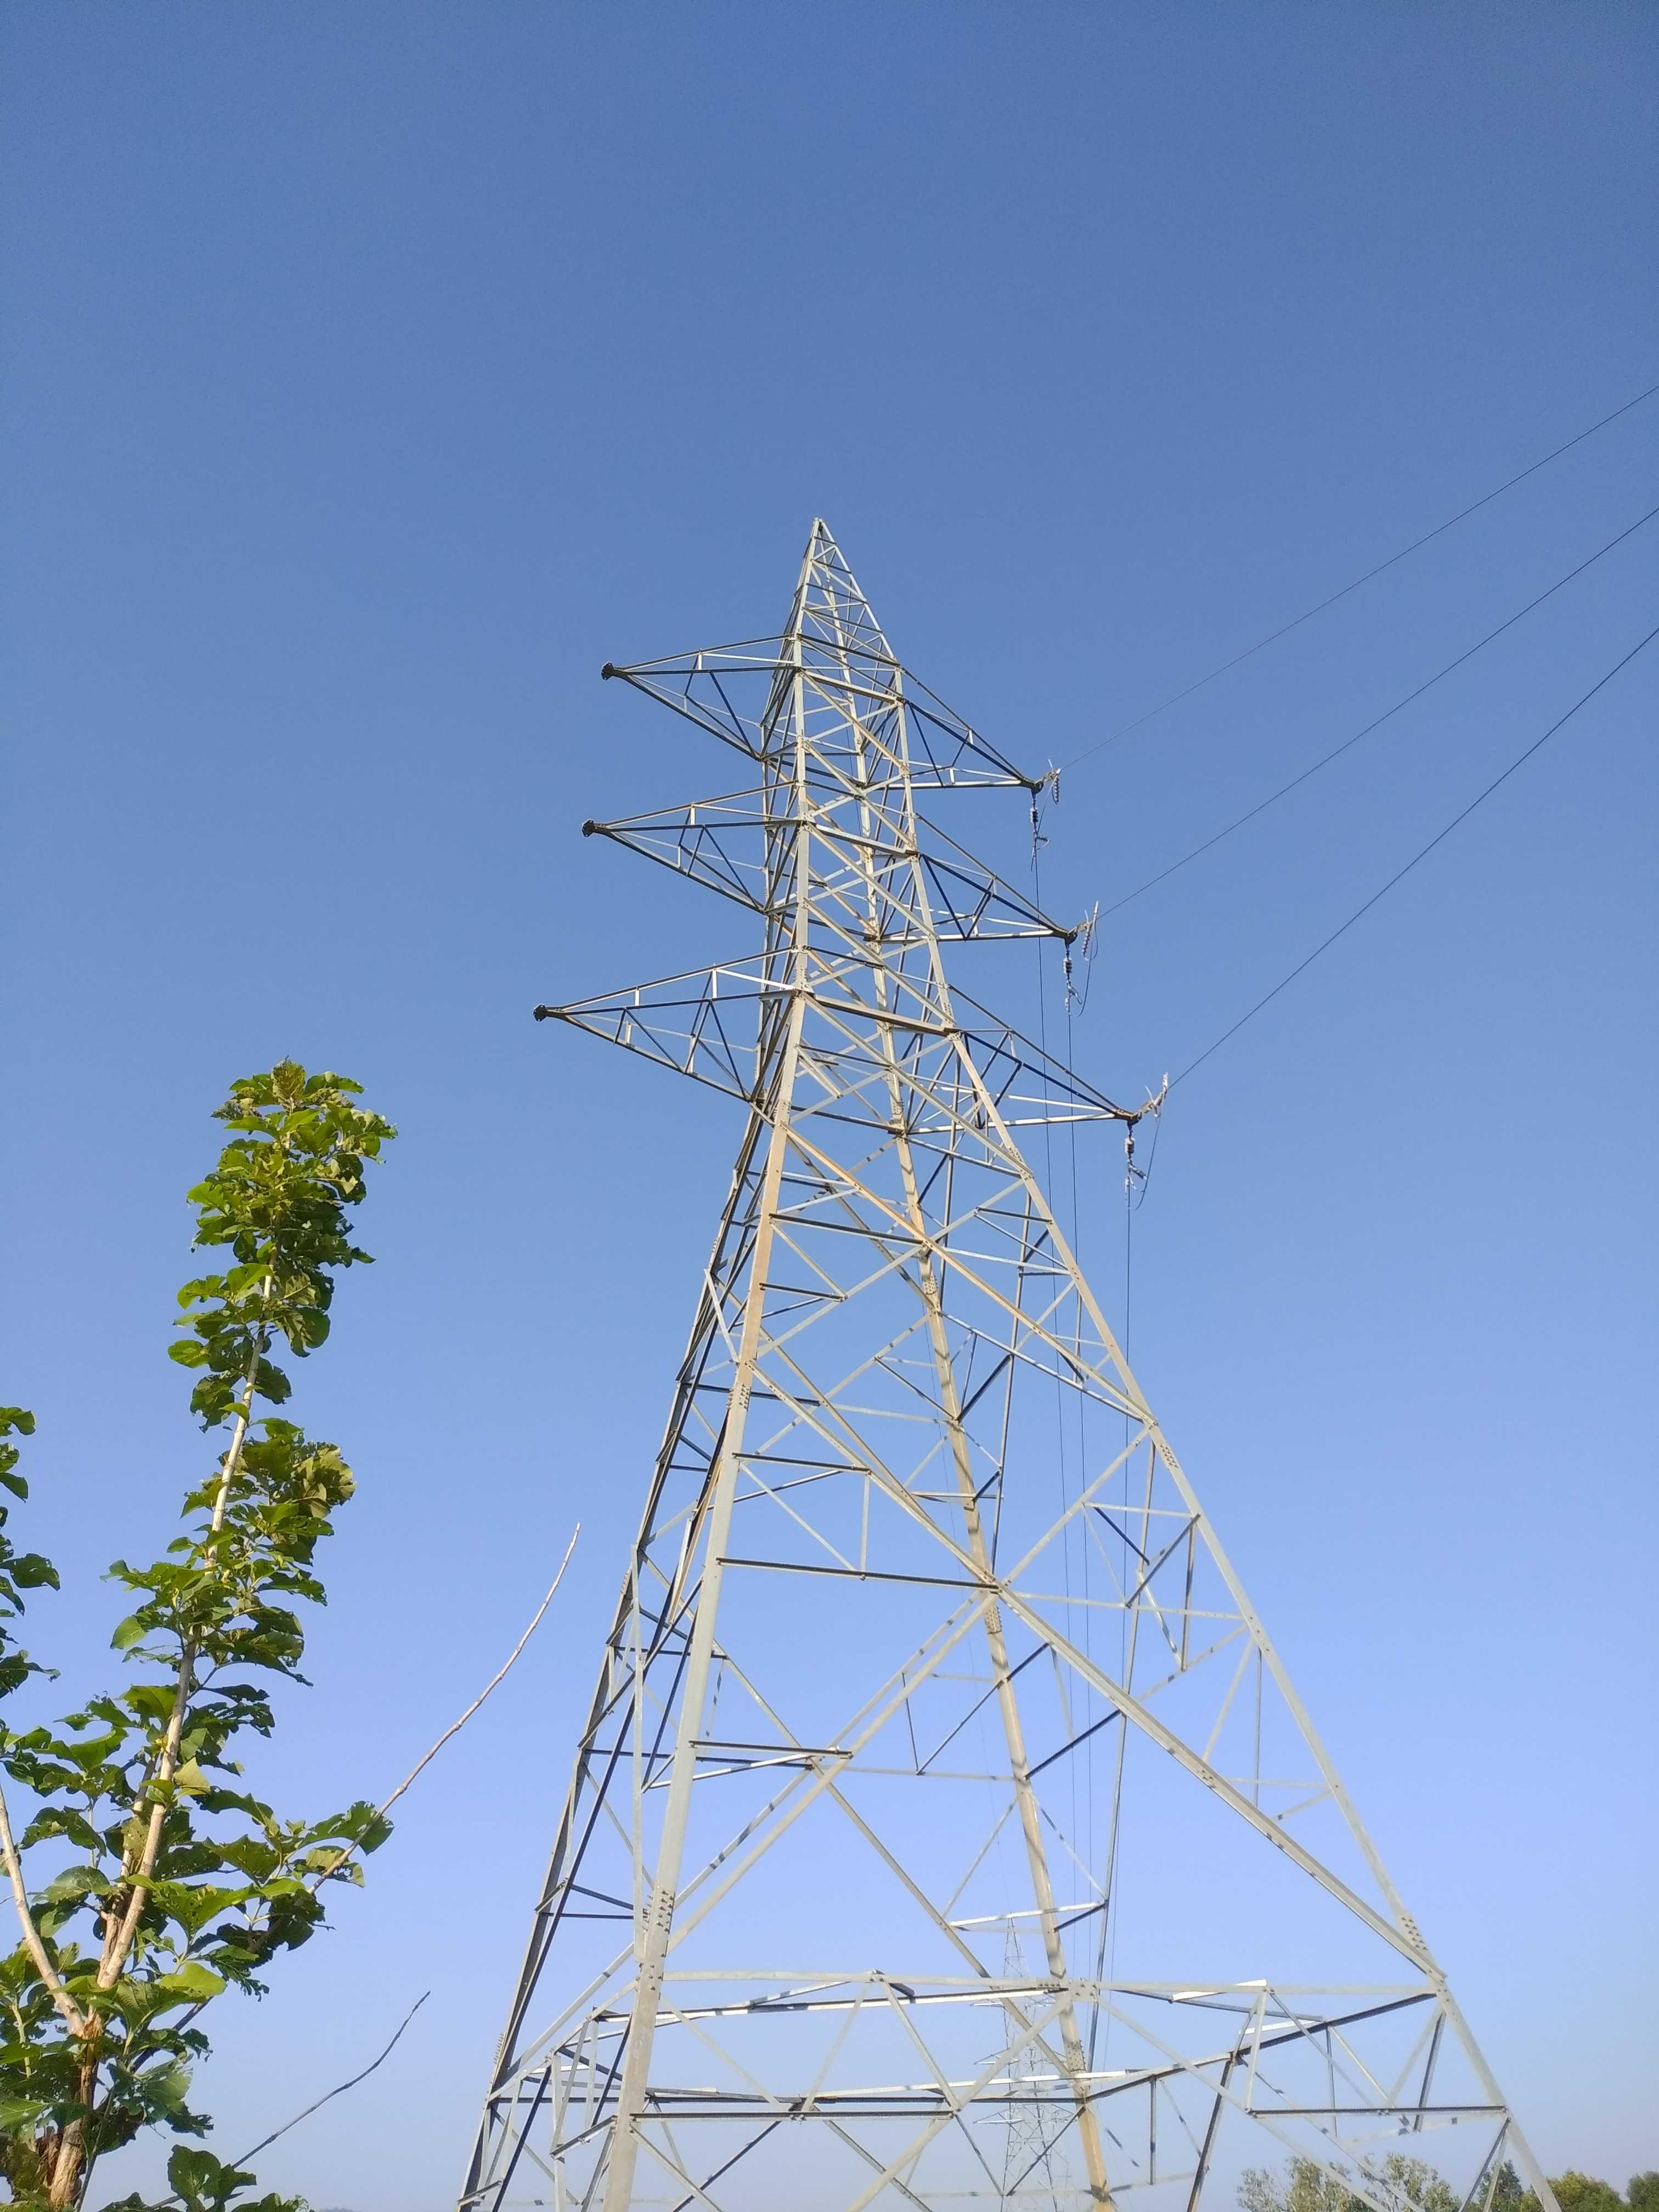GSM Antenna: (457, 489, 1549, 2134)
